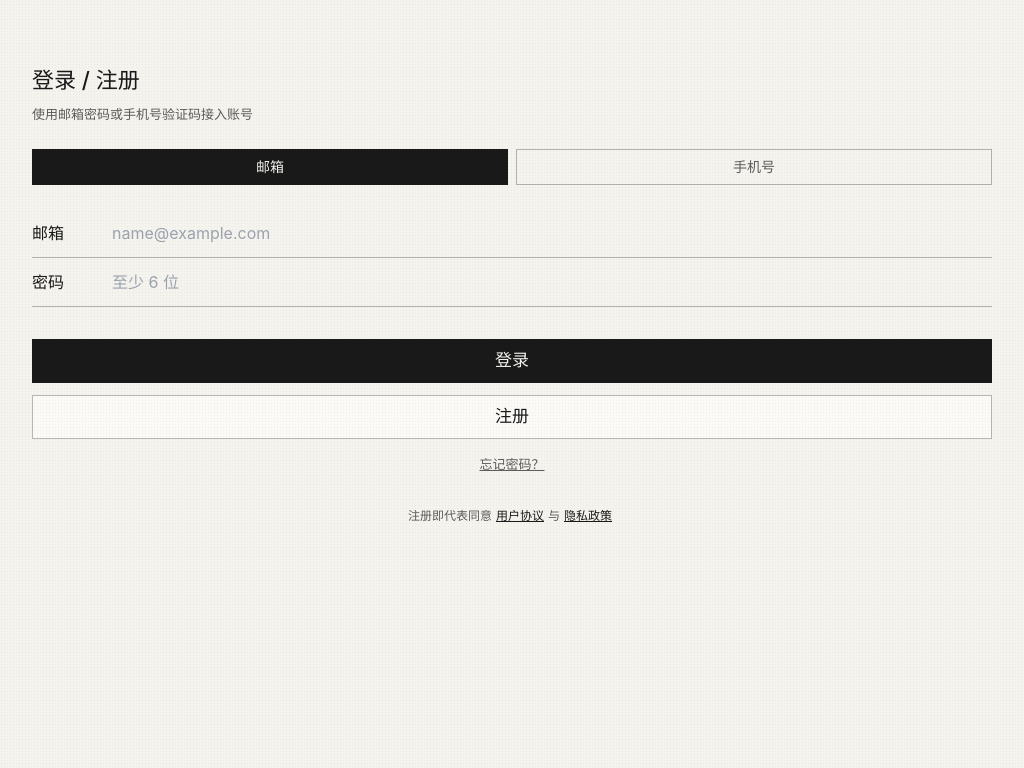
it: Login phone channel › sends a login OTP and shows the cooldown notice
Step 1. Click the button with test id "login-channel-phone" → point(754, 166), box [516, 148, 992, 184]
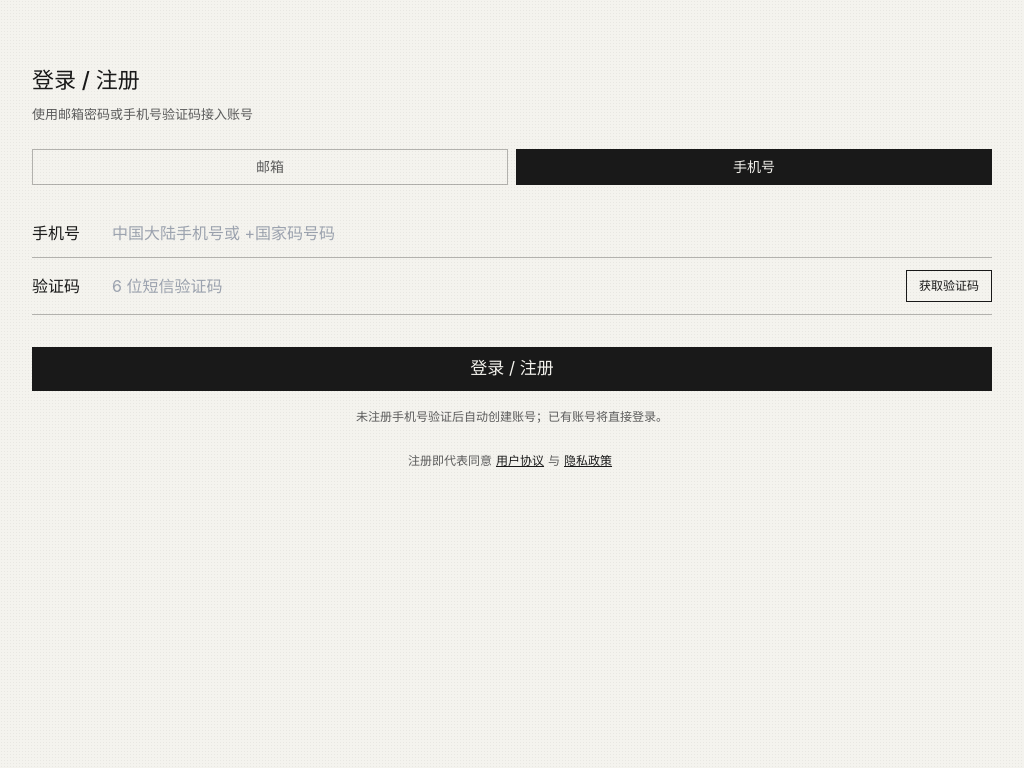
Step 2. Type "13800138000" into the field with test id "login-phone" → point(552, 232), box [112, 220, 992, 244]
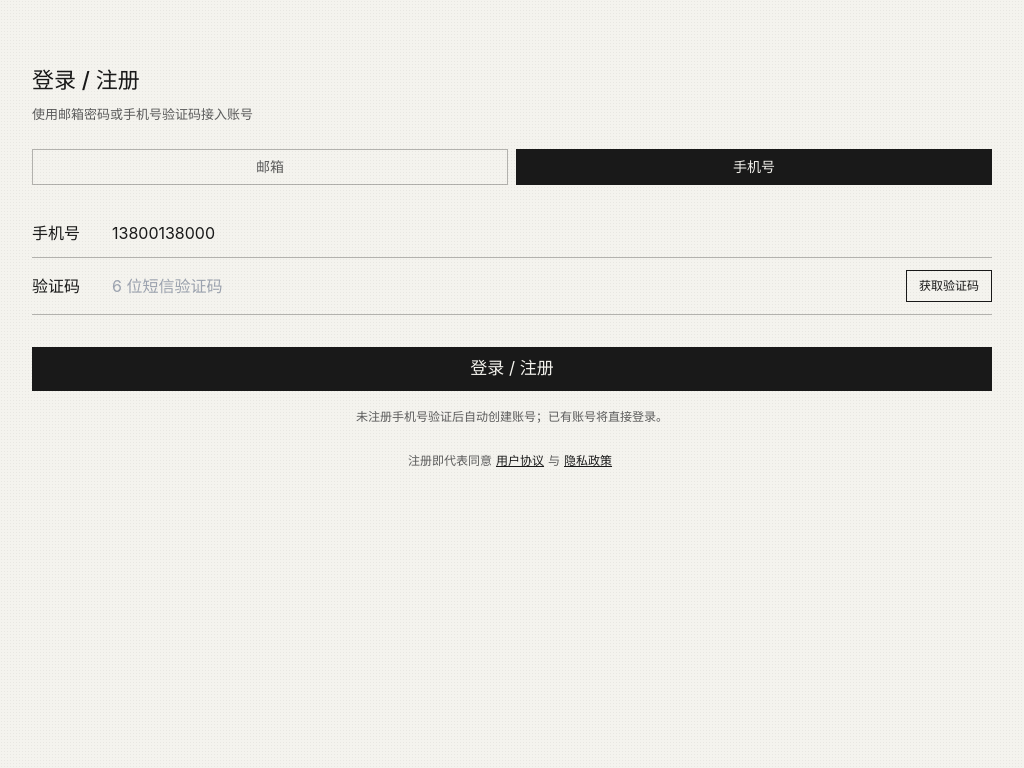
Step 3. Click the button with test id "login-send-phone-code" → point(949, 286), box [906, 270, 992, 302]
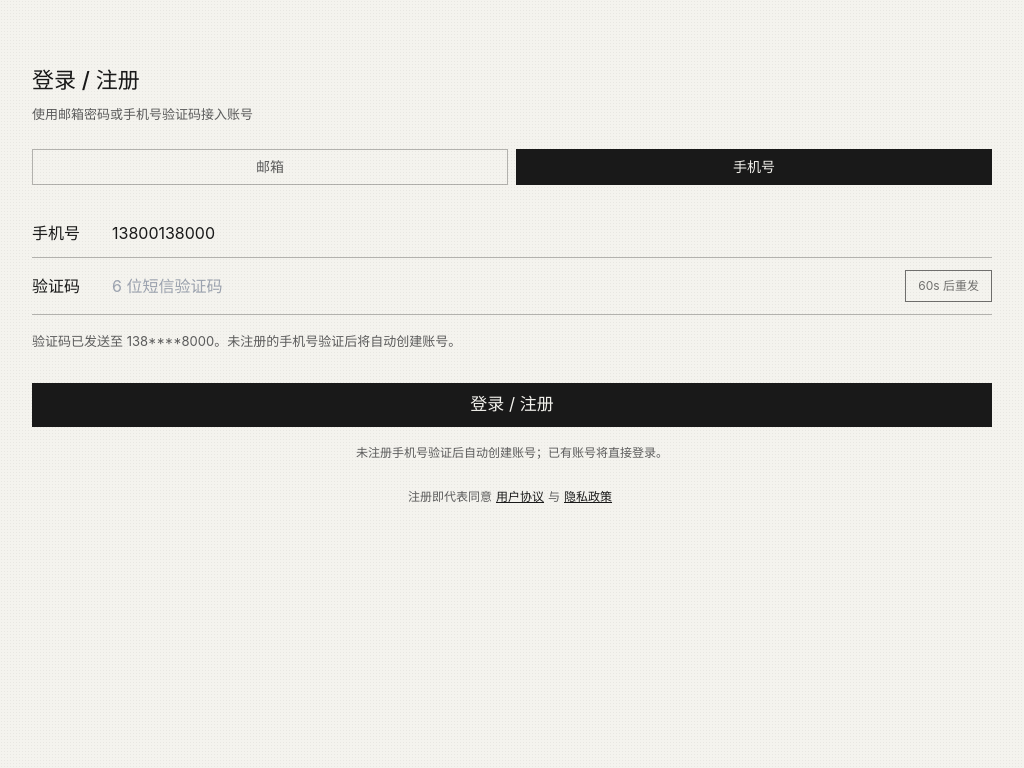
Expected: the text "验证码已发送至 138****8000。未注册的手机号验证后将自动创建账号。" is shown, [32, 332, 461, 348]
